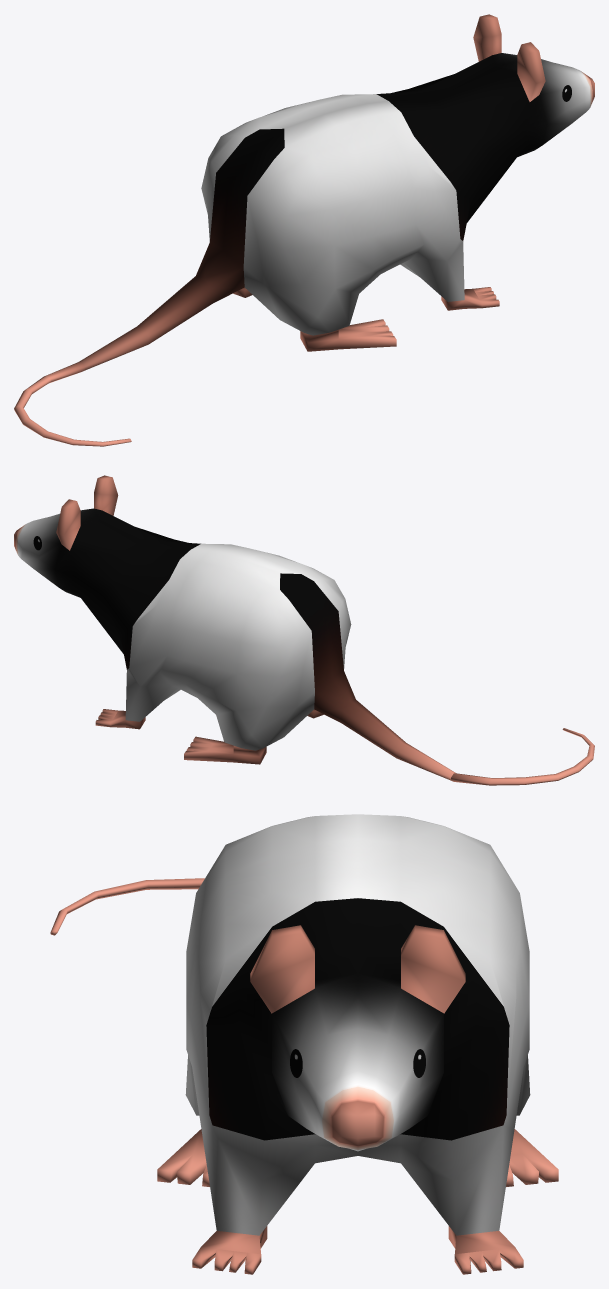
The model's file is low-poly_rat.glb.
3 renders of one model, top to bottom at view 1: azimuth 30°, elevation 25°; view 2: azimuth 150°, elevation 25°; view 3: azimuth 270°, elevation 25°, orthographic. The views are drawn at different scales.
Visible parts, largest first — view 1: rat, tail; view 2: rat, tail; view 3: rat, tail, eyes.
Boxes of the visible parts, x1=… form: rat: x1=79, y1=14, x2=594, y2=370; tail: x1=14, y1=362, x2=131, y2=446; rat: x1=14, y1=475, x2=455, y2=780; tail: x1=451, y1=728, x2=594, y2=785; rat: x1=157, y1=814, x2=558, y2=1274; tail: x1=50, y1=878, x2=204, y2=935; eyes: x1=290, y1=1049, x2=425, y2=1077.
Bounding box in the file's own units: 7.07 × 2.61 × 2.96.
1 material, 1 textured.
